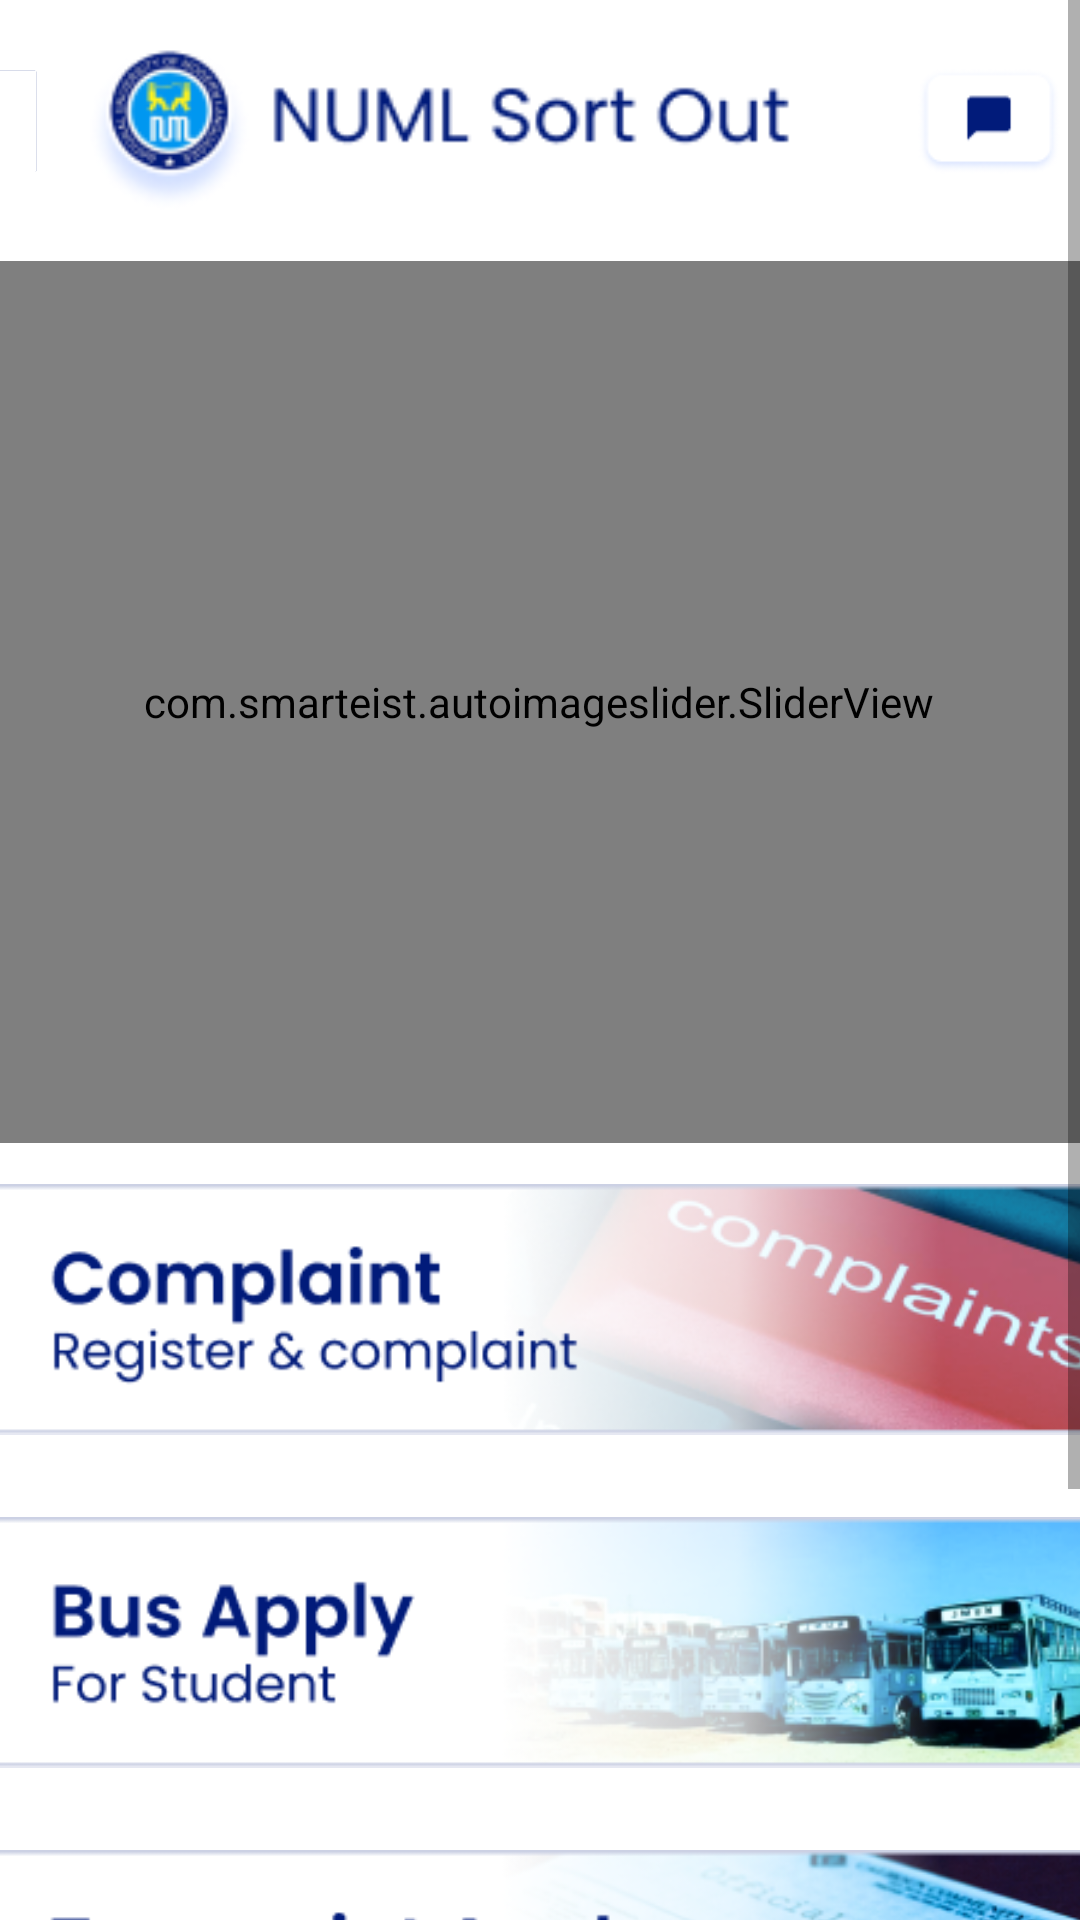

Screen size 1080x1920. Icon name, then its box in pixels as bbox=[x1, y1, x2, y2]:
chat: bbox=[937, 95, 1040, 164]
